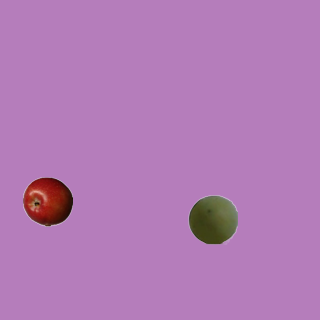Apple Braeburn: (22, 176, 72, 226)
Grape White 4: (187, 194, 237, 244)
